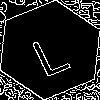L: (25, 25, 72, 78)
